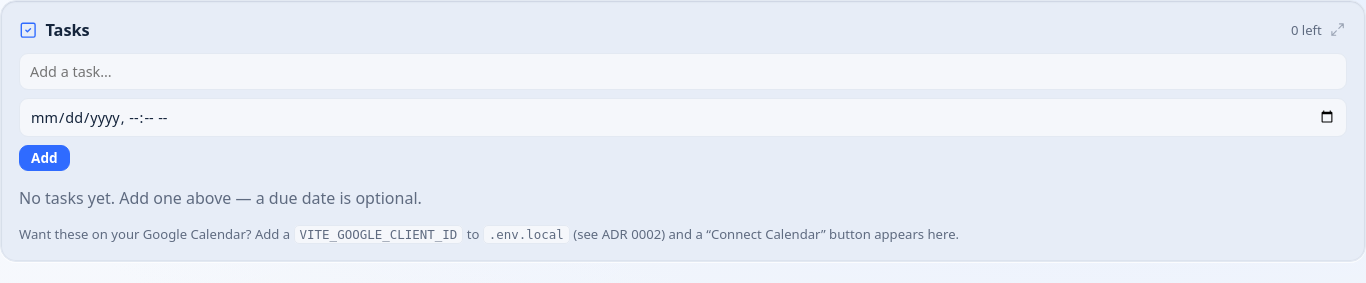
RemindersWidget adding a task › shows the new task and persists it
Type "Call the bank" into the field with placeholder "Add a task…" at (683, 72), box x1=19 y1=53 x2=1347 y2=90
Then press Enter
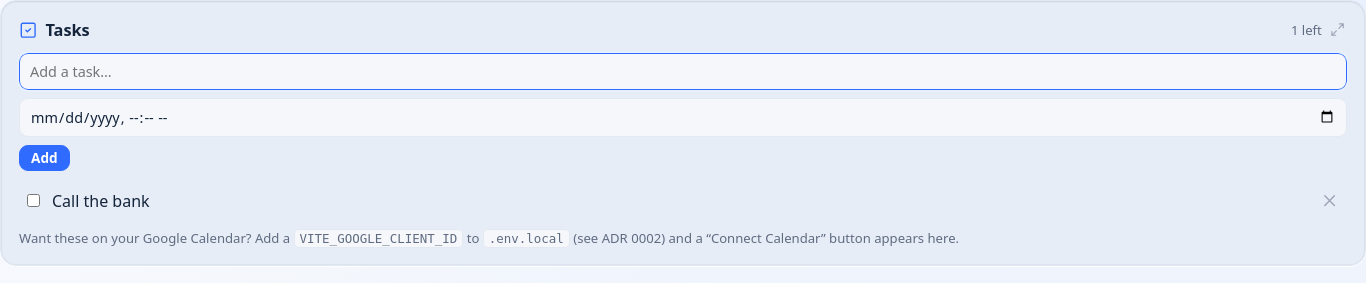
Result: the text "Call the bank" is shown at x1=52 y1=190 x2=150 y2=212
